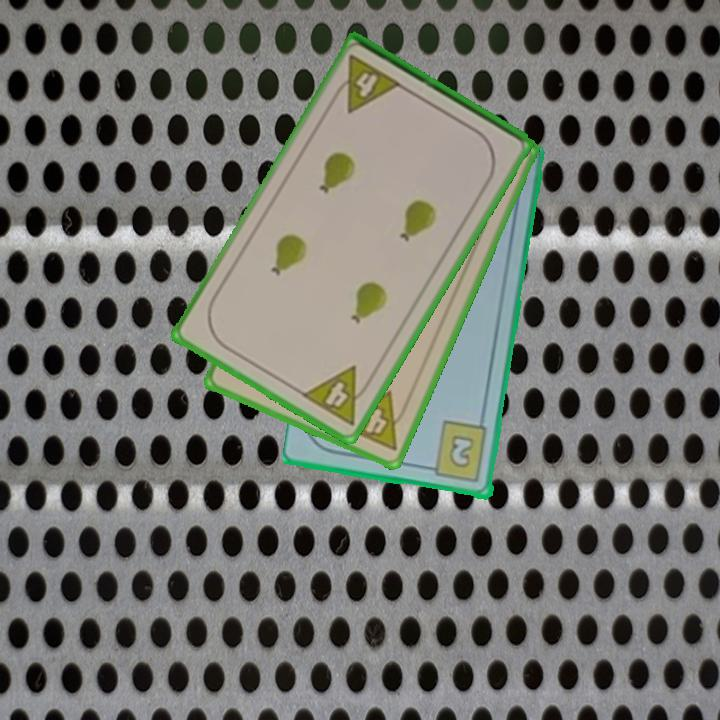2b: (422, 419, 491, 486)
4p: (298, 362, 377, 429), (337, 388, 414, 454), (328, 51, 405, 116)
